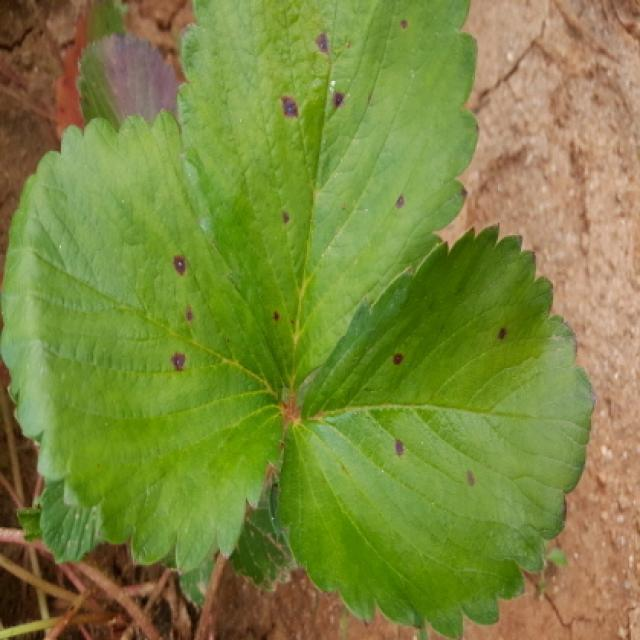Leaf Spot: (0, 109, 290, 574), (271, 222, 595, 638), (174, 0, 481, 401)
